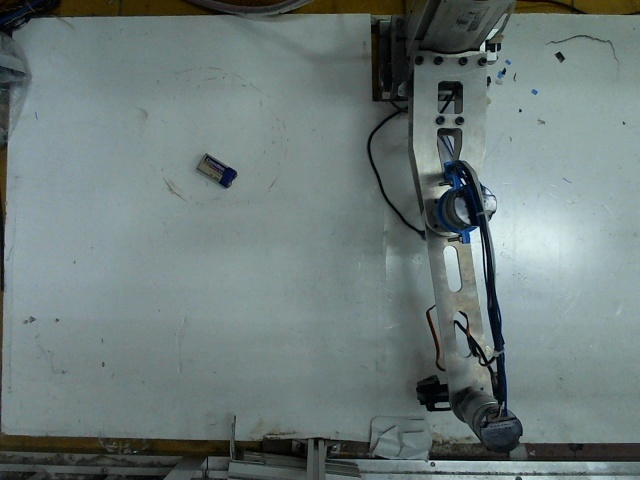battery: (194, 149, 237, 185)
